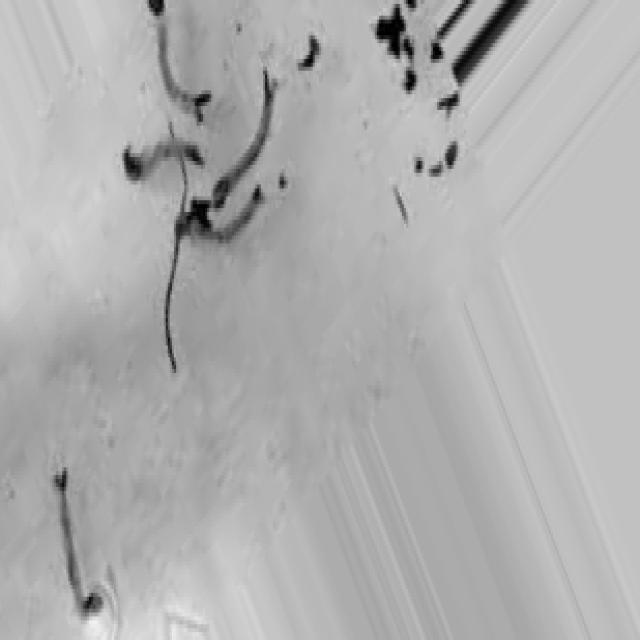larvas: (211, 68, 277, 207), (148, 1, 210, 122), (57, 471, 103, 614), (172, 209, 260, 247), (120, 142, 202, 177)
